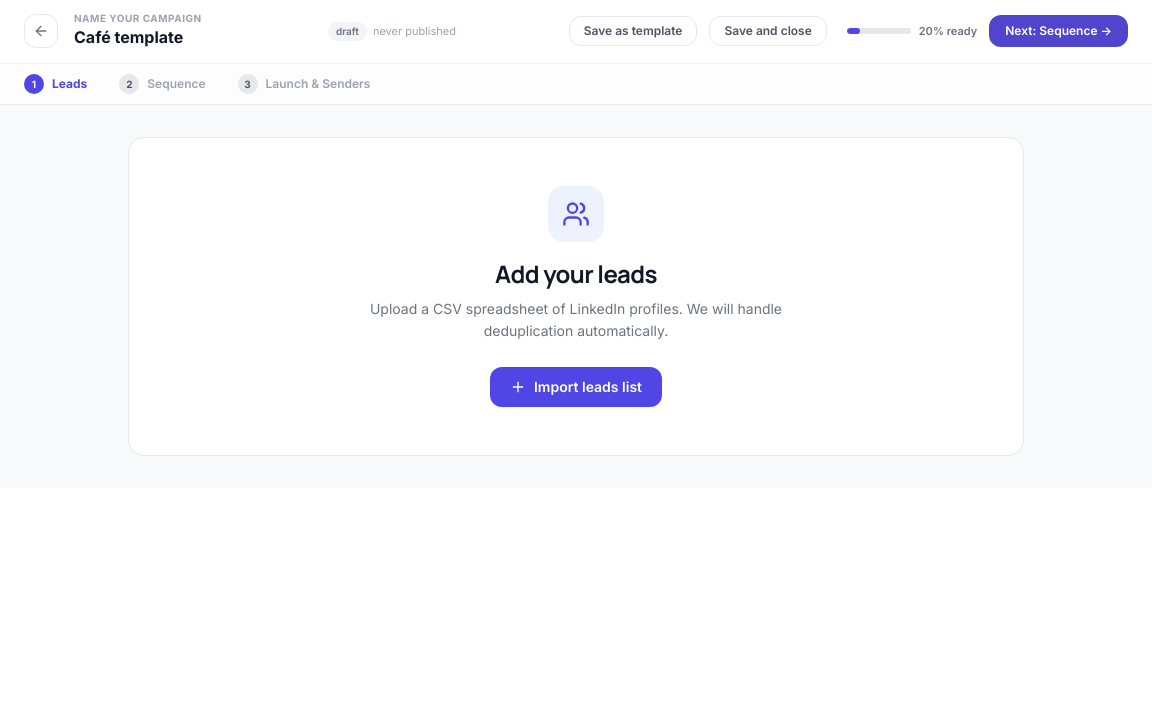
Test: unsupported context makes no save request
The image size is (1152, 720).
Click the button "Save as template" at (633, 31), box 569,16 -> 698,46
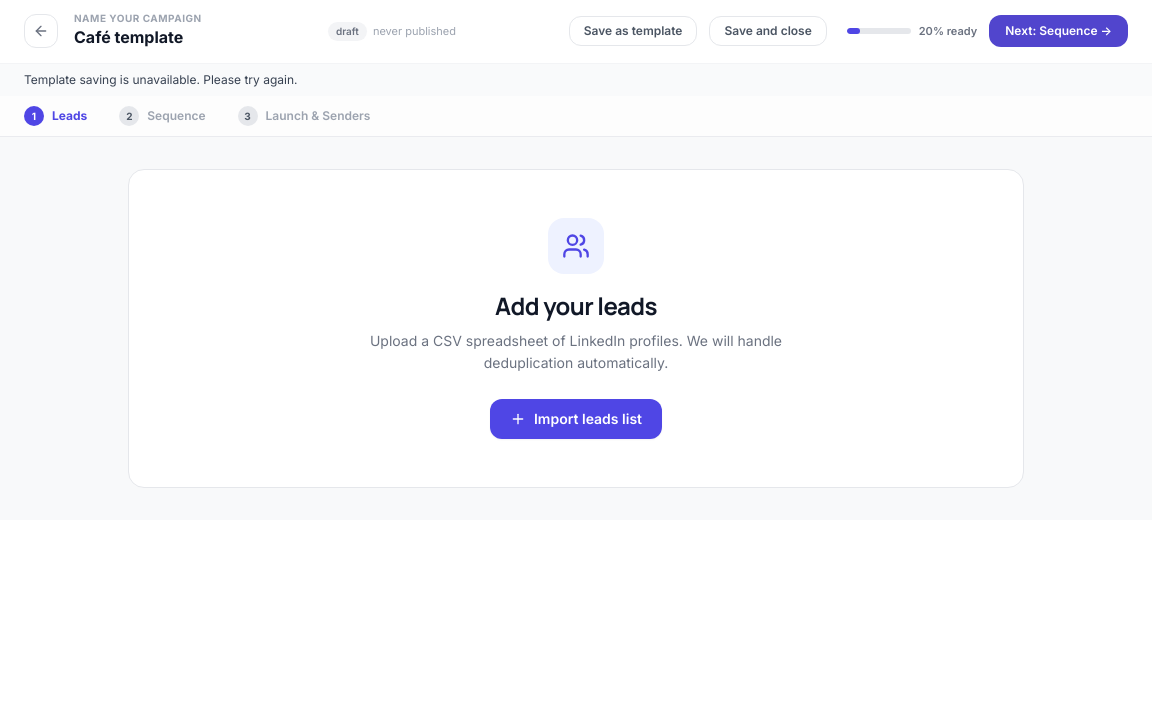
Expected: the text "unavailable" is shown, 24,72 -> 298,86
